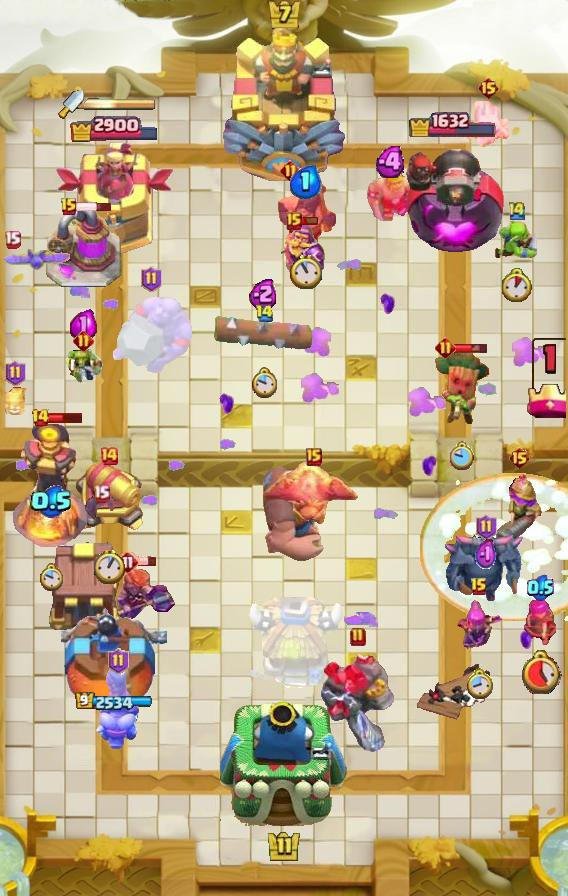archer: (364, 171, 420, 221)
archer-queen: (110, 293, 192, 377)
balloon: (260, 462, 328, 564)
bar: (54, 142, 173, 256)
barbarian: (0, 247, 74, 273)
barbarian-barrel: (85, 492, 117, 522)
bat: (464, 100, 512, 148)
bomb: (43, 539, 123, 633)
bomb-tower: (491, 472, 547, 550)
cannon: (524, 594, 556, 648)
cannoneer-tower: (319, 650, 397, 752)
electro-dragon: (12, 421, 90, 547)
electro-spirit: (30, 486, 73, 518), (375, 146, 409, 178), (290, 165, 322, 199), (249, 278, 279, 310), (70, 309, 97, 341), (526, 574, 553, 602), (475, 538, 497, 572)
elite-barbarian: (96, 667, 140, 749)
elixir: (518, 650, 561, 694), (290, 254, 322, 289), (95, 548, 125, 583), (502, 268, 532, 302), (465, 667, 493, 699), (251, 367, 277, 399), (449, 442, 474, 471), (39, 563, 63, 592)
emote: (47, 412, 84, 425), (75, 201, 113, 213), (454, 342, 490, 354), (299, 215, 319, 226), (138, 556, 157, 567)
evolution-symbol: (454, 600, 504, 656)
firecracker-evolution: (281, 223, 326, 281)
goblin-barrel: (433, 347, 491, 427)
golemite: (444, 531, 528, 603)
ice-spirit-evolution: (0, 384, 30, 418)
king-tower: (220, 21, 348, 181), (220, 702, 348, 827)
king-tower-bar: (84, 97, 156, 111)
minion: (213, 315, 315, 353)
monk: (275, 170, 337, 248)
mother-witch: (263, 460, 365, 530)
pekka: (44, 207, 122, 289)
phoenix-big: (420, 473, 568, 621)
prince: (244, 597, 346, 693)
queen-tower: (61, 603, 167, 731)
royal-recruit: (70, 458, 148, 534)
selected: (68, 114, 159, 142), (408, 109, 498, 137), (75, 692, 153, 712)
tesla-evolution: (114, 565, 178, 623)
text: (116, 550, 140, 574), (5, 360, 27, 386), (477, 76, 500, 100), (509, 446, 532, 470), (142, 266, 163, 292), (476, 514, 497, 540), (107, 648, 128, 674), (279, 159, 300, 181), (435, 337, 456, 359), (73, 329, 94, 350), (507, 199, 527, 221), (99, 446, 119, 466), (31, 408, 50, 428), (255, 304, 274, 323), (60, 197, 78, 217), (470, 577, 488, 597), (93, 484, 110, 503), (350, 627, 366, 647), (4, 231, 21, 249), (286, 212, 302, 230), (306, 448, 322, 466)
tower-bar: (401, 138, 505, 256)
zap: (493, 216, 541, 260), (63, 343, 103, 383)
